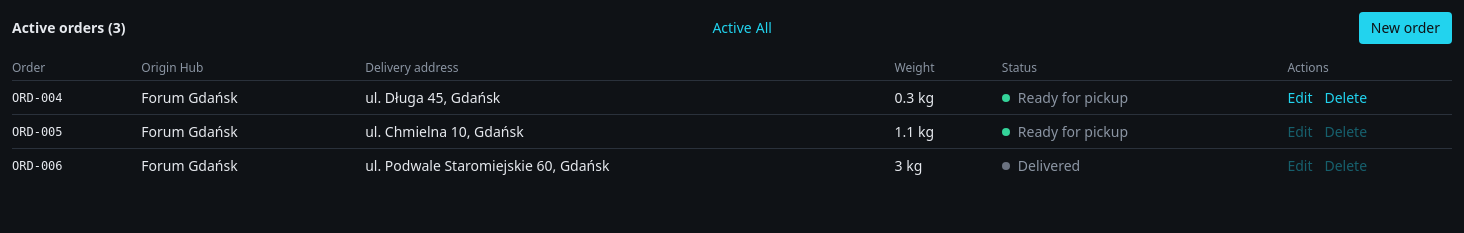
Test: OrdersManager › defaults to Active and reads the recent history only after All is chosen
Check: the heading "Active orders (3)" is shown, box [12, 18, 125, 38]
Click the button "All".
click(764, 28)  # box [756, 18, 772, 38]
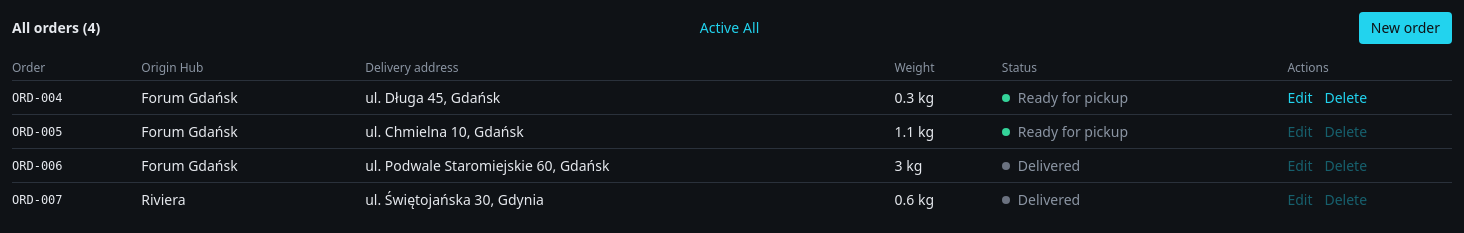
Check: the heading "All orders (4)" is shown, box [12, 18, 100, 38]
Check: the text "ORD-007" is shown, box [12, 182, 141, 216]
Click the button "Active".
click(719, 28)  # box [700, 18, 739, 38]
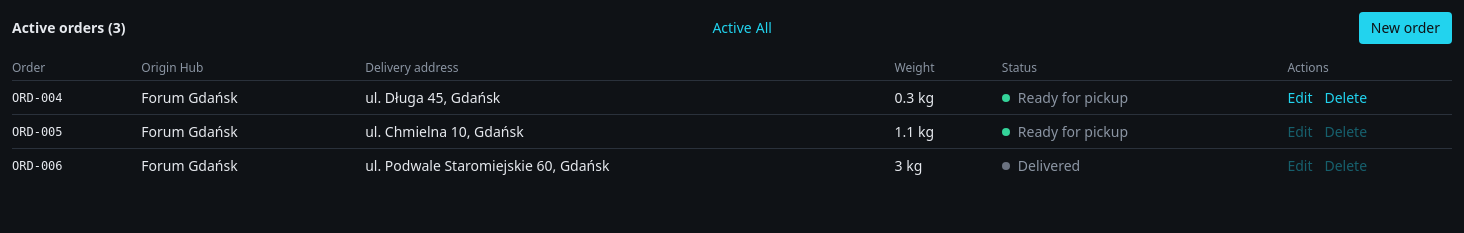
Check: the heading "Active orders (3)" is shown, box [12, 18, 125, 38]
Check: the text "ORD-007" is gone
